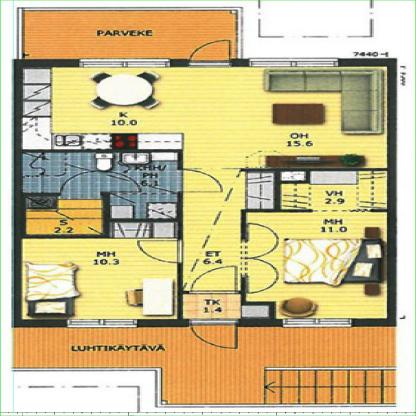door: (245, 222, 279, 293), (59, 170, 142, 196), (195, 318, 240, 354), (135, 240, 190, 266), (176, 170, 228, 196), (187, 41, 236, 66), (192, 266, 236, 292)
window: (61, 318, 141, 329), (246, 56, 332, 65), (282, 318, 354, 327), (82, 62, 169, 68)
zone: (24, 68, 384, 166), (178, 167, 389, 318), (15, 324, 396, 402), (18, 147, 178, 238), (247, 212, 384, 315), (21, 240, 176, 318), (24, 8, 237, 57)
